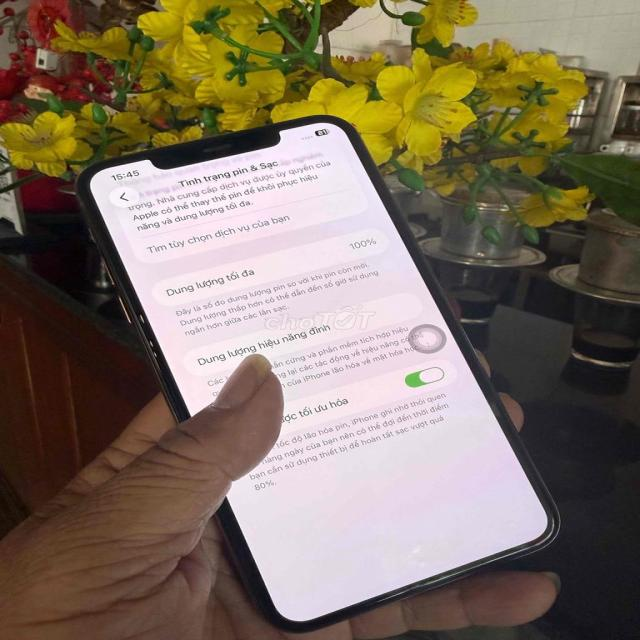gen_11: (80, 104, 564, 628)
